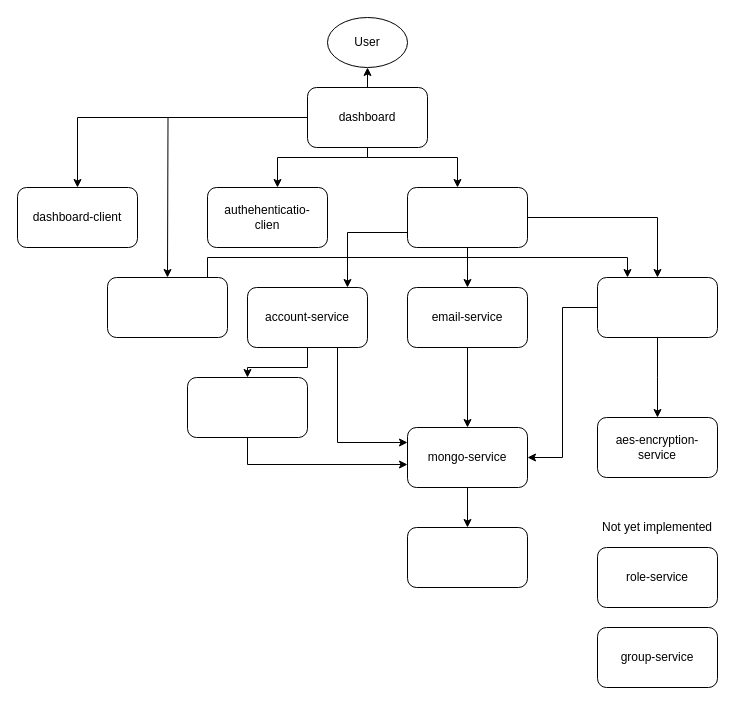
Some shapes in this 735 by 705 pixel diagram are drawn without their labels. Here are the shapes that lost their labels. From the top down, the centre of each, then its label:
the point at 467,217: authentication-service
the point at 167,307: dashboard-service
the point at 657,307: session-token-service
the point at 247,407: secret-service
the point at 467,557: mongo
